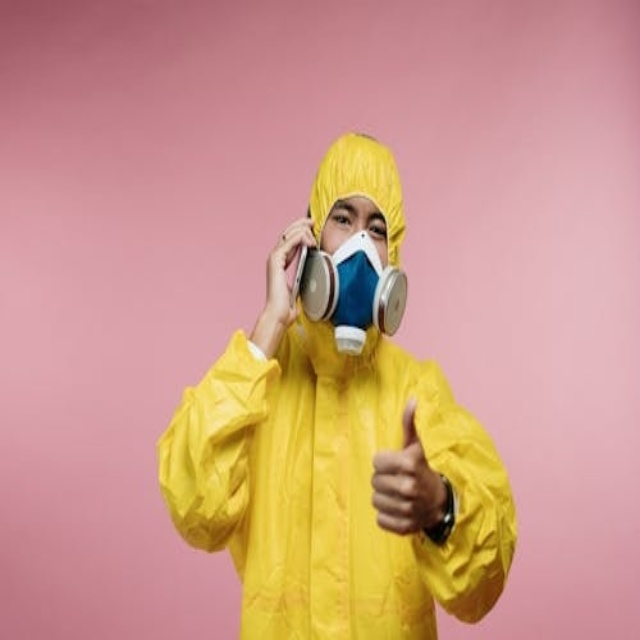Mascara: (295, 229, 407, 352)
Sin_gafas: (325, 198, 387, 240)
Sin_guantes: (369, 392, 447, 538), (253, 222, 309, 348)
